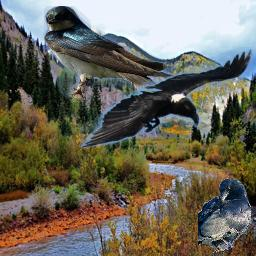Crow: (79, 47, 253, 148), (198, 178, 251, 256)
Swallow: (44, 6, 177, 102)
